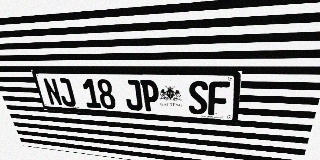1: (81, 79, 101, 108)
8: (96, 79, 116, 109)
F: (208, 81, 230, 116)
J: (123, 79, 143, 111), (56, 78, 77, 107)
N: (42, 78, 63, 106)
P: (140, 80, 160, 112)
S: (188, 81, 208, 115)
